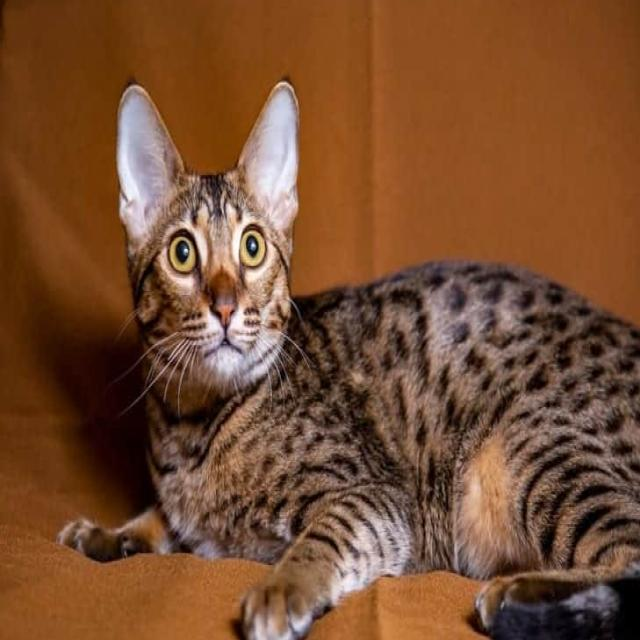Savannah: (53, 67, 640, 640)
